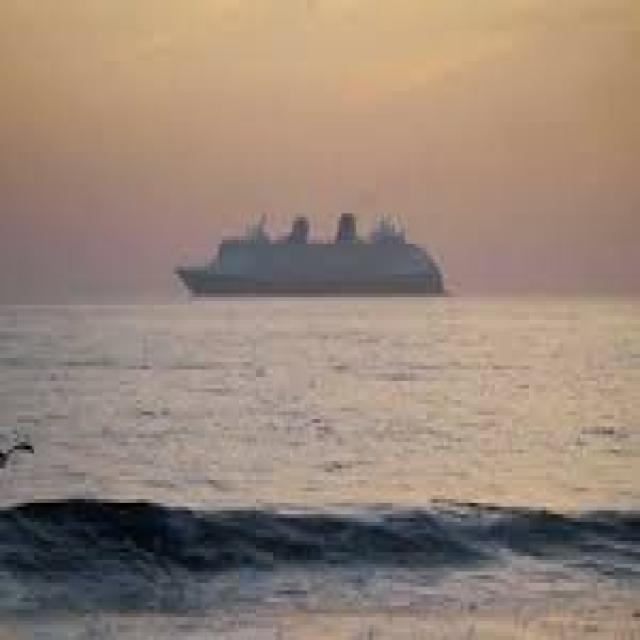cargoship: (181, 176, 438, 282)
